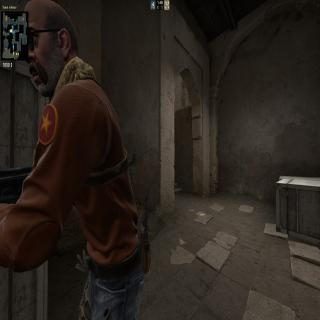T-Head: (22, 0, 82, 100)
